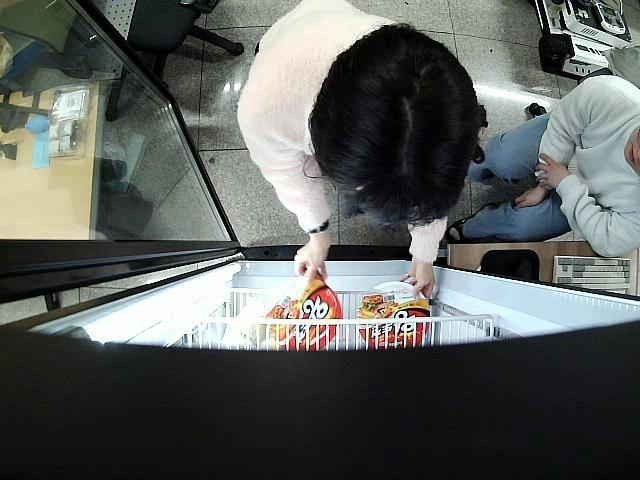10_wangTtukkeong: (264, 277, 342, 350), (356, 282, 430, 350)
